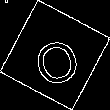O_N: (27, 24, 83, 86)
